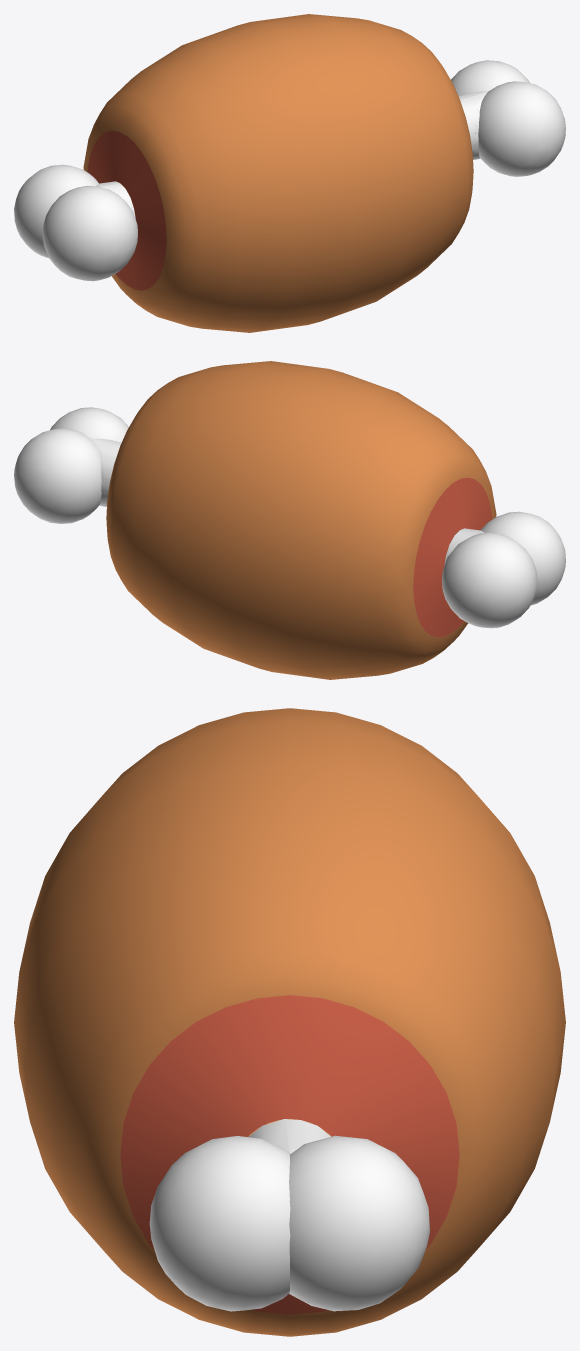
Rendered from Meat.fbx.
3 renders of one model, top to bottom at view 1: azimuth 30°, elevation 25°; view 2: azimuth 150°, elevation 25°; view 3: azimuth 270°, elevation 25°, orthographic. The views are drawn at different scales.
Visible parts, largest first — view 1: Meat; view 2: Meat; view 3: Meat.
Part boxes in pixels (x1,y1,x2,y2): Meat: (14,14,565,332); Meat: (14,361,565,679); Meat: (14,708,565,1336).
Size of the model in its own units: 1.25 by 0.6604 by 0.6373.
